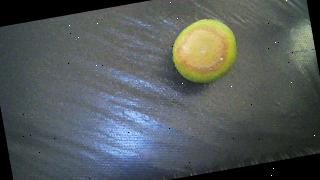DESECHO: (167, 15, 242, 87)
